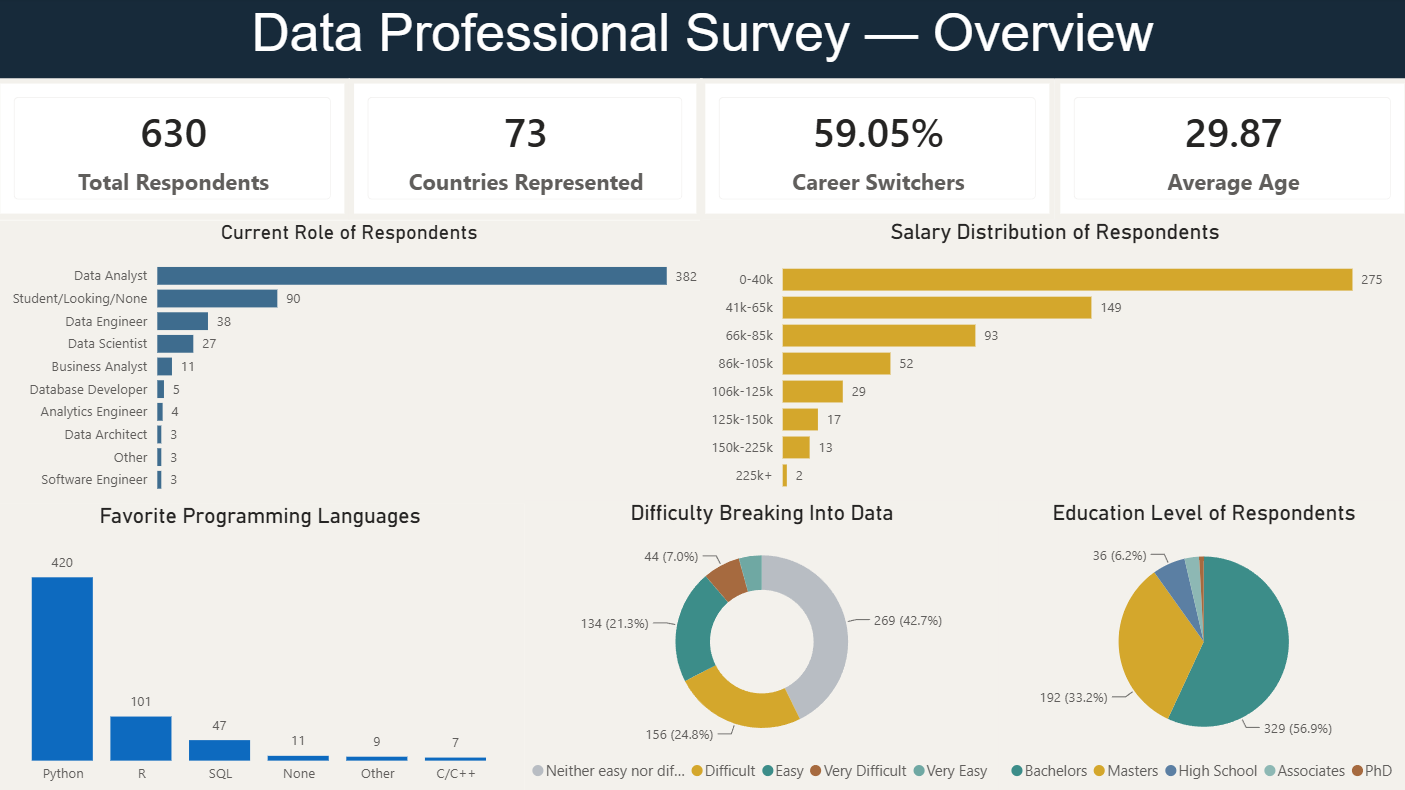

The page's visual inventory and layout, read from the dashboard file:
{"tool":"powerbi","page":{"name":"Page 1","canvas":[1280,720],"ordinal":0},"visuals":[{"type":"textbox","box":[0,0,1280.3,74.1],"z":0},{"type":"cardVisual","fields":{"Data":["Count(data_profession_survey survey_staging3.respondent_id)"]},"box":[0,73.7,321.1,127.9],"z":1000},{"type":"cardVisual","fields":{"Data":["Avg(data_profession_survey survey_staging3.age)"]},"box":[959.2,73.7,321.1,127.9],"z":2000},{"type":"cardVisual","fields":{"Data":["Count(data_profession_survey survey_staging3.residing_country)"]},"box":[319.7,73.7,319.7,127.9],"z":3000},{"type":"cardVisual","fields":{"Data":["data_profession_survey survey_staging3.career_switchers_percentage"]},"box":[638.1,73.7,321.1,127.9],"z":4000},{"type":"barChart","title":"Current Role of Respondents","fields":{"Y":["CountNonNull(data_profession_survey survey_staging3.respondent_id)"],"Category":["data_profession_survey survey_staging3.current_role"]},"box":[0,201.9,640.8,256.1],"z":5000},{"type":"columnChart","title":"Favorite Programming Languages","fields":{"Category":["data_profession_survey survey_staging3.favorite_programming_language"],"Y":["CountNonNull(data_profession_survey survey_staging3.respondent_id)"]},"box":[0,457.5,479.5,263],"z":6000},{"type":"barChart","title":"Salary Distribution of Respondents","fields":{"Category":["data_profession_survey survey_staging3.salary"],"Y":["CountNonNull(data_profession_survey survey_staging3.respondent_id)"]},"box":[638.1,201.6,642.2,257.2],"z":7000},{"type":"donutChart","title":"Difficulty Breaking Into Data","fields":{"Category":["data_profession_survey survey_staging3.difficulty_breaking_into_data"],"Y":["CountNonNull(data_profession_survey survey_staging3.respondent_id)"]},"box":[479.5,456.2,428.8,263],"z":8000},{"type":"pieChart","title":"Education Level of Respondents","fields":{"Category":["data_profession_survey survey_staging3.highest_education"],"Y":["CountNonNull(data_profession_survey survey_staging3.respondent_id)"]},"box":[908.2,456.2,371.2,263],"z":9000}]}

Visuals, with their boxes in screenshot pixels (x1, y1, x2, y2), scaled from the page's 1280x720 canvas onto the 1405x790 screenshot:
textbox: left=0, top=0, right=1404, bottom=81
cardVisual - Count(data_profession_survey survey_staging3.respondent_id): left=0, top=81, right=352, bottom=221
cardVisual - Avg(data_profession_survey survey_staging3.age): left=1053, top=81, right=1404, bottom=221
cardVisual - Count(data_profession_survey survey_staging3.residing_country): left=351, top=81, right=702, bottom=221
cardVisual - data_profession_survey survey_staging3.career_switchers_percentage: left=700, top=81, right=1053, bottom=221
"Current Role of Respondents" barChart: left=0, top=222, right=703, bottom=503
"Favorite Programming Languages" columnChart: left=0, top=502, right=526, bottom=789
"Salary Distribution of Respondents" barChart: left=700, top=221, right=1404, bottom=503
"Difficulty Breaking Into Data" donutChart: left=526, top=501, right=997, bottom=789
"Education Level of Respondents" pieChart: left=997, top=501, right=1404, bottom=789
